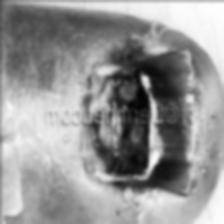Toxin: (79, 46, 199, 188)
